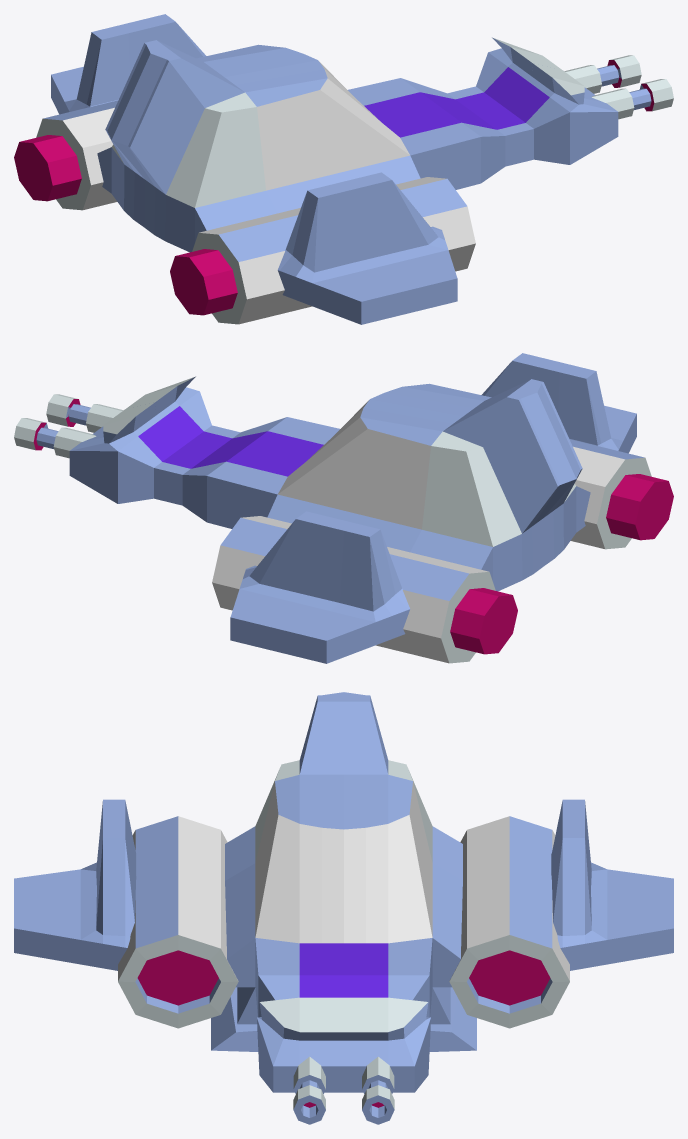
Rendered from korabl_kosmicheskiy.fbx.
3 renders of one model, top to bottom at view 1: azimuth 30°, elevation 25°; view 2: azimuth 150°, elevation 25°; view 3: azimuth 270°, elevation 25°, orthographic. The views are drawn at different scales.
Visible parts, largest first — view 1: Cube; view 2: Cube; view 3: Cube.
Part boxes in pixels (x1,y1,x2,y2): Cube: [14, 14, 673, 324]; Cube: [14, 353, 673, 663]; Cube: [14, 692, 673, 1124].
Size of the model in its own units: 747 by 299 by 745.
